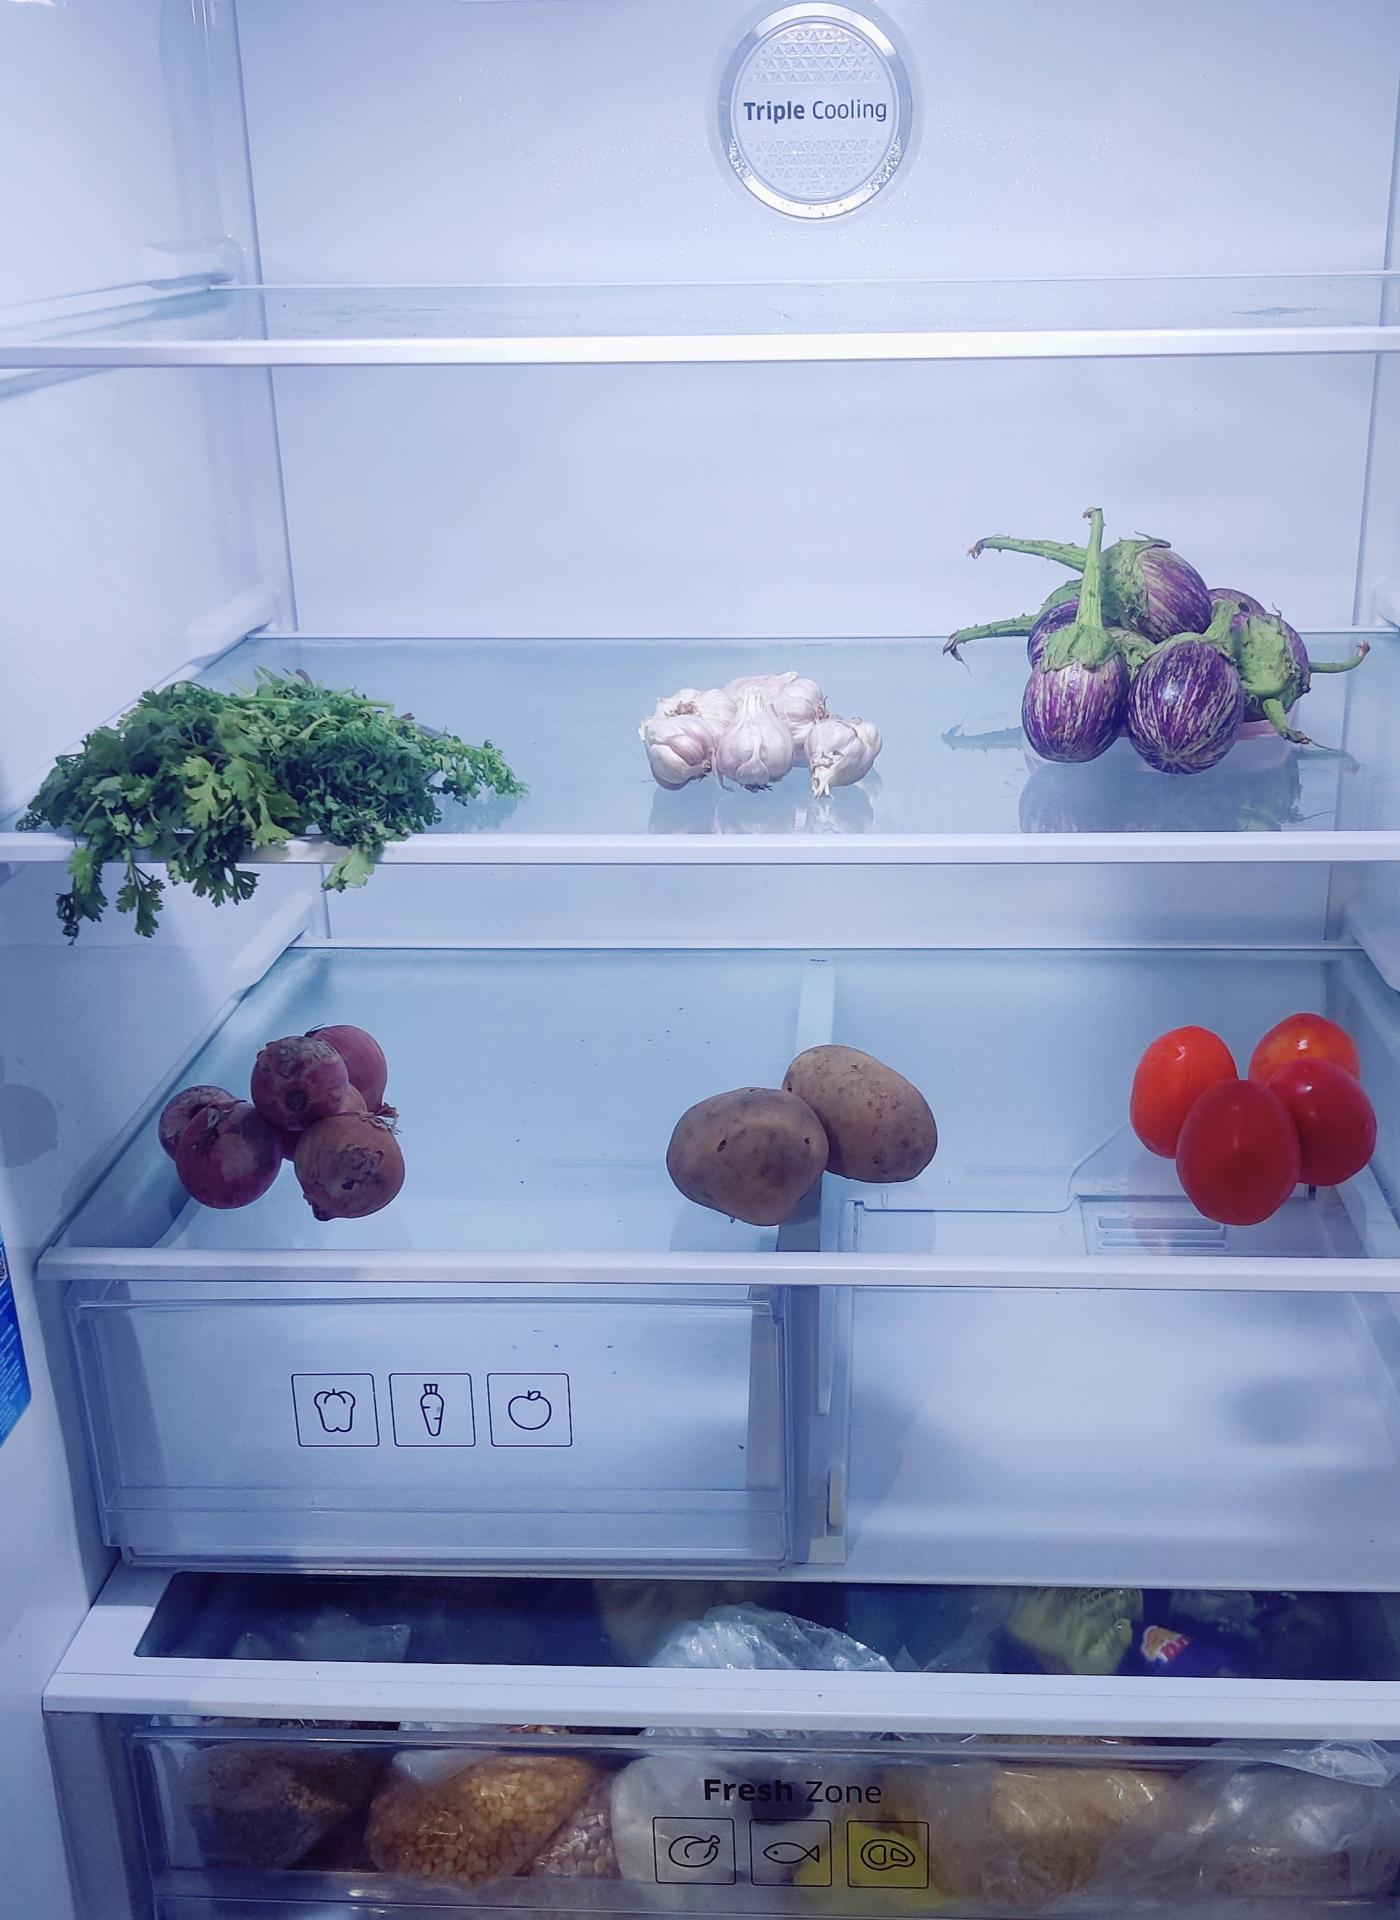brinjal: (987, 520, 1311, 769)
coriander: (22, 681, 513, 878)
garlic: (646, 671, 881, 792)
onion: (163, 1018, 410, 1215)
potato: (663, 1033, 941, 1213)
tomato: (1130, 1009, 1381, 1222)
